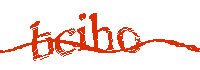b: (31, 21, 54, 60)
c: (55, 28, 79, 59)
h: (90, 12, 116, 54)
i: (77, 12, 90, 53)
o: (114, 23, 141, 56)
